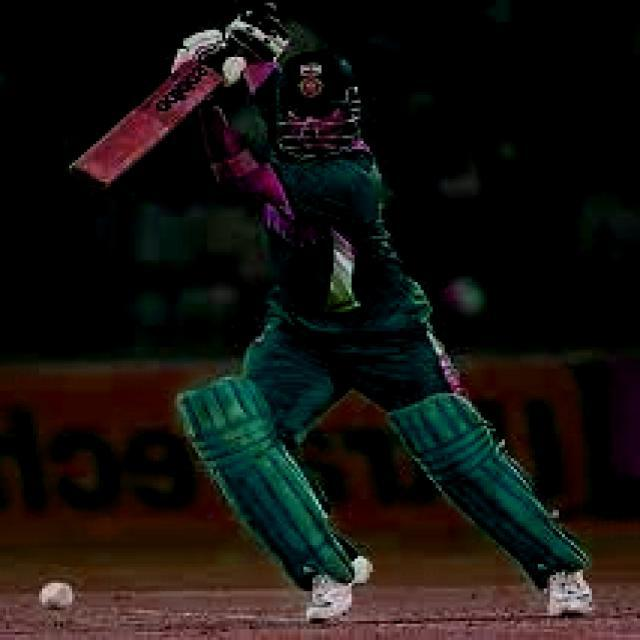bat: (58, 60, 208, 203)
toe: (70, 166, 111, 187)
